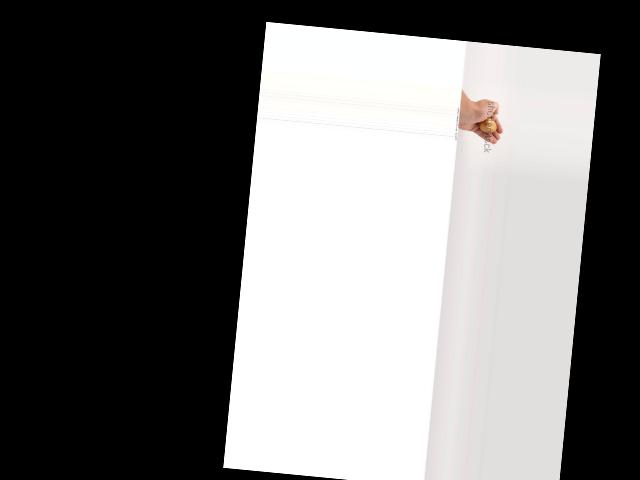egg: (477, 117, 497, 133)
